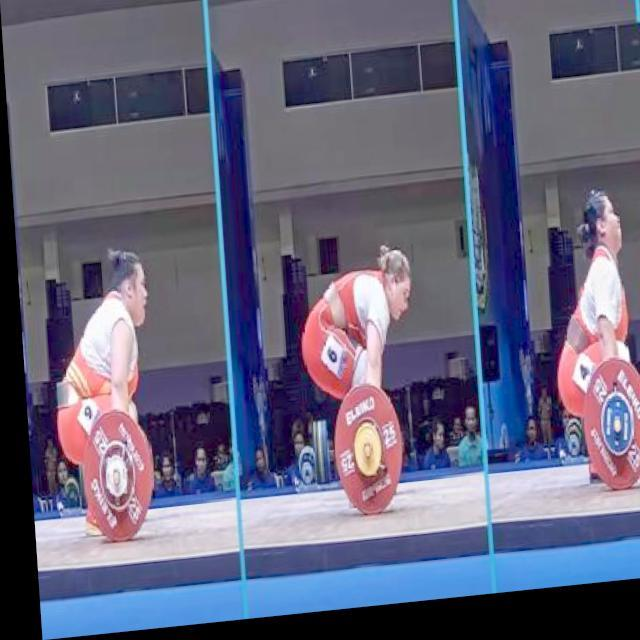barbell: (69, 404, 150, 551), (322, 383, 403, 530), (571, 367, 640, 511)
